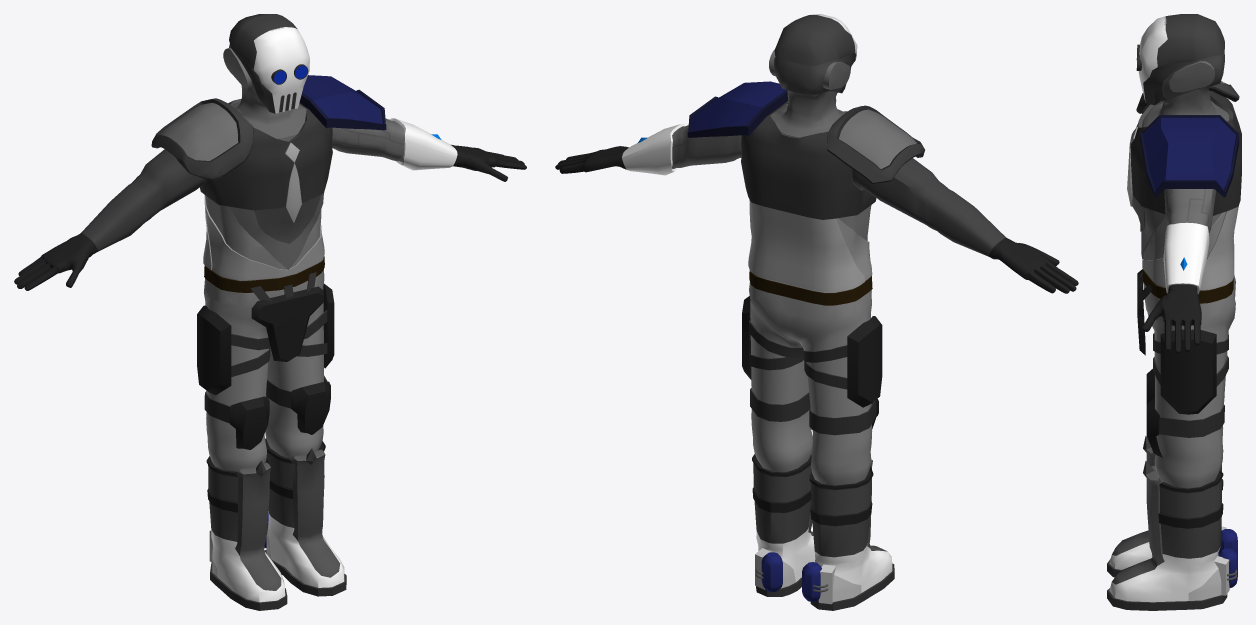
Rendered from Ranger_final_UV_reworked.fbx.
3 renders of one model, left to right at view 1: azimuth 30°, elevation 25°; view 2: azimuth 150°, elevation 25°; view 3: azimuth 270°, elevation 25°, orthographic. The views are drawn at different scales.
Visible parts, largest first — view 1: Ranger; view 2: Ranger; view 3: Ranger.
Part boxes in pixels (box(x1,y1,x2,y2)): Ranger: box(14, 14, 526, 610); Ranger: box(555, 14, 1078, 610); Ranger: box(1107, 14, 1241, 610).
Size of the model in its own units: 188 by 197 by 42.55.
Materials: 1 (1 with a texture image).
